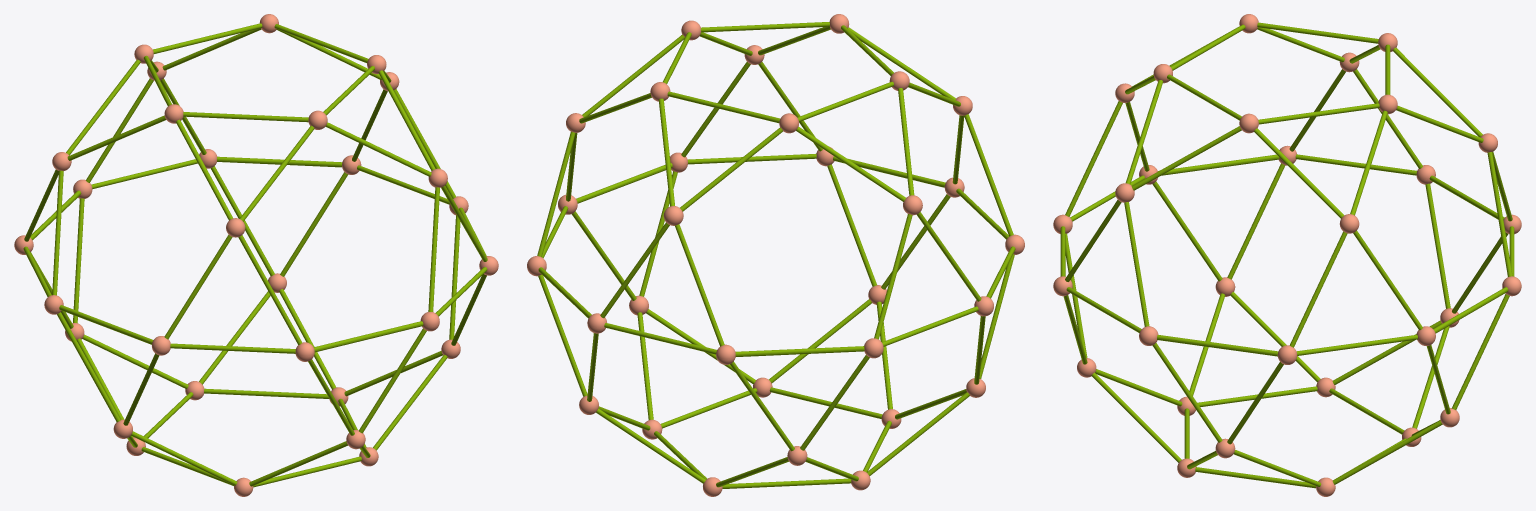
File: icosidodecahedron.glb
3 views of the same model, side by side, from view 1: azimuth 30°, elevation 25°; view 2: azimuth 150°, elevation 25°; view 3: azimuth 270°, elevation 25° (orthographic). The views are drawn at different scales.
Size of the model in its own units: 8.59 by 7.36 by 8.19.
